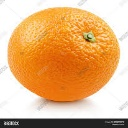orange: (8, 7, 121, 103)
